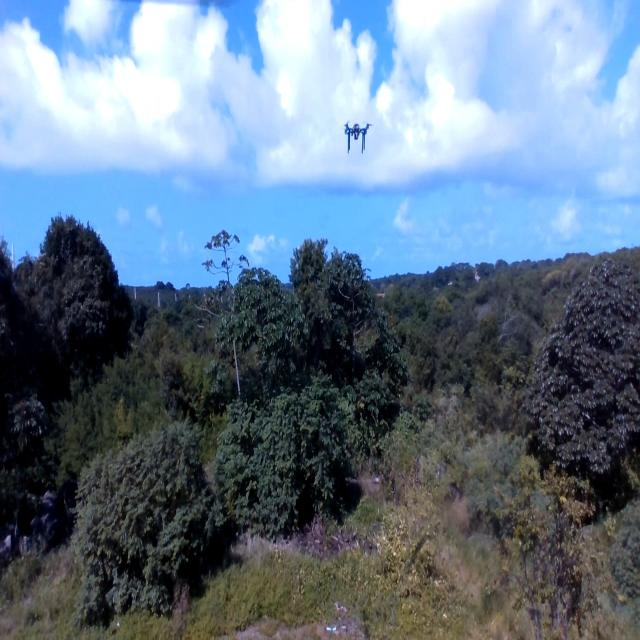-uav-: (333, 99, 374, 159)
